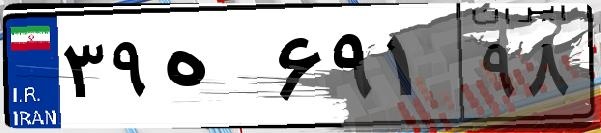1: (385, 28, 445, 110)
3: (57, 26, 110, 100)
6: (270, 28, 330, 110)
8: (525, 38, 570, 115)
9: (330, 28, 385, 110), (475, 38, 525, 113), (110, 28, 158, 98)
ه: (158, 20, 270, 120)
